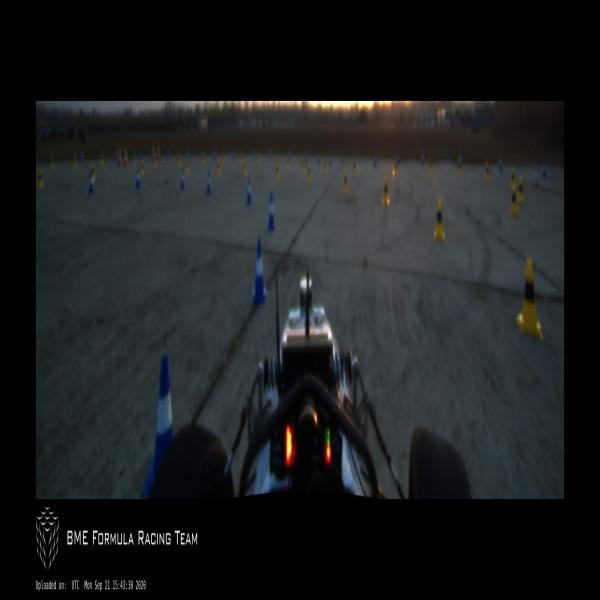blue_cone: (143, 356, 174, 495), (251, 236, 268, 304), (267, 192, 275, 232), (245, 178, 252, 205), (88, 171, 95, 194), (135, 167, 141, 189), (180, 169, 186, 189), (206, 170, 211, 194), (542, 162, 547, 178), (499, 156, 504, 172), (316, 152, 321, 165), (374, 155, 377, 168), (460, 153, 463, 166), (114, 152, 118, 161), (305, 152, 308, 164), (329, 155, 332, 167), (81, 152, 84, 163), (289, 149, 292, 159), (422, 150, 424, 164), (167, 150, 169, 162), (213, 146, 215, 158), (270, 147, 272, 159), (398, 152, 400, 164), (252, 147, 254, 158), (139, 150, 141, 160), (186, 148, 188, 158), (232, 148, 234, 158)
large_orange_cone: (124, 144, 128, 167), (118, 145, 122, 166), (152, 140, 155, 161), (157, 139, 160, 160)
yellow_cone: (516, 256, 544, 341), (434, 198, 446, 243), (510, 186, 520, 216), (518, 174, 526, 205), (382, 176, 390, 205), (343, 169, 349, 194), (37, 166, 43, 188), (509, 167, 515, 189), (306, 163, 312, 183), (484, 162, 490, 182), (392, 159, 398, 176), (216, 158, 221, 176), (352, 159, 357, 176), (49, 153, 54, 170), (428, 157, 432, 176), (140, 158, 144, 176), (133, 150, 137, 168), (458, 159, 462, 176), (300, 155, 304, 172), (185, 159, 189, 175), (73, 153, 77, 169), (285, 154, 289, 170), (154, 154, 158, 168), (276, 161, 279, 179), (243, 160, 246, 177), (92, 164, 95, 181), (323, 158, 326, 175), (101, 152, 104, 167), (177, 153, 180, 166), (222, 149, 224, 165), (203, 150, 205, 164), (276, 152, 278, 166), (258, 153, 260, 166), (240, 151, 242, 163)
